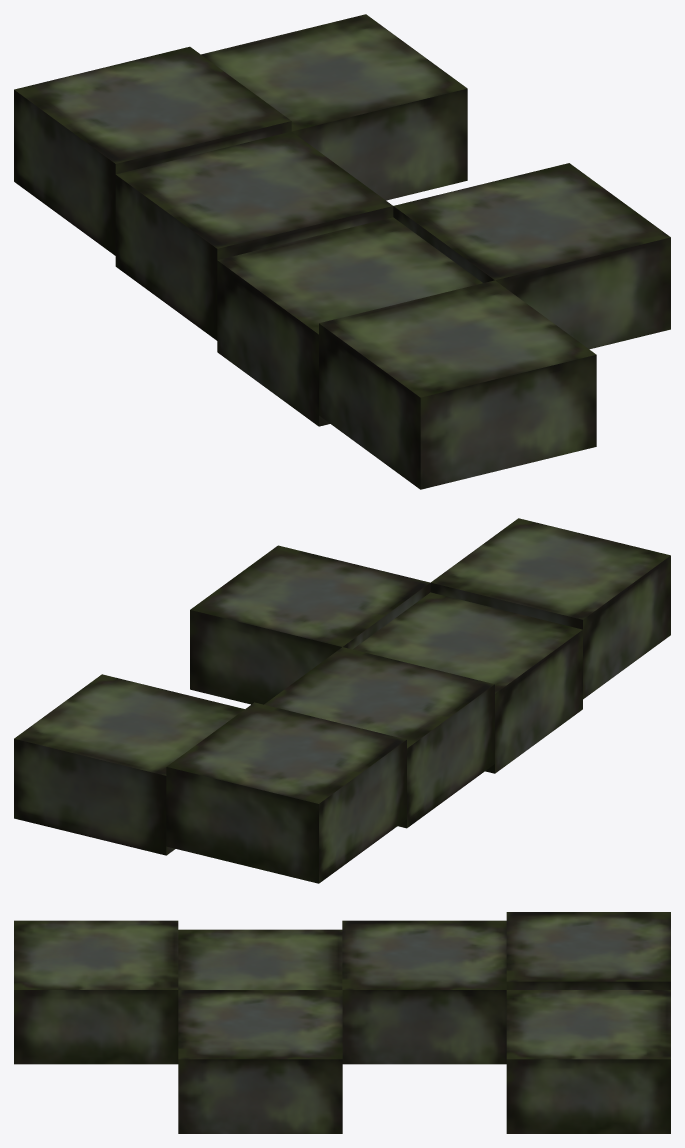
Rendered from bridge-end-01.fbx.
3 views of the same model, one above another, from view 1: azimuth 30°, elevation 25°; view 2: azimuth 150°, elevation 25°; view 3: azimuth 270°, elevation 25° (orthographic). The views are drawn at different scales.
Parts seen in each view (by area): view 1: bridge_end_01; view 2: bridge_end_01; view 3: bridge_end_01.
Boxes of the visible parts, x1=… form: bridge_end_01: x1=14, y1=14, x2=670, y2=489; bridge_end_01: x1=14, y1=518, x2=670, y2=883; bridge_end_01: x1=14, y1=912, x2=670, y2=1133.
Bounding box in the file's own units: 200 × 61.84 × 400.
